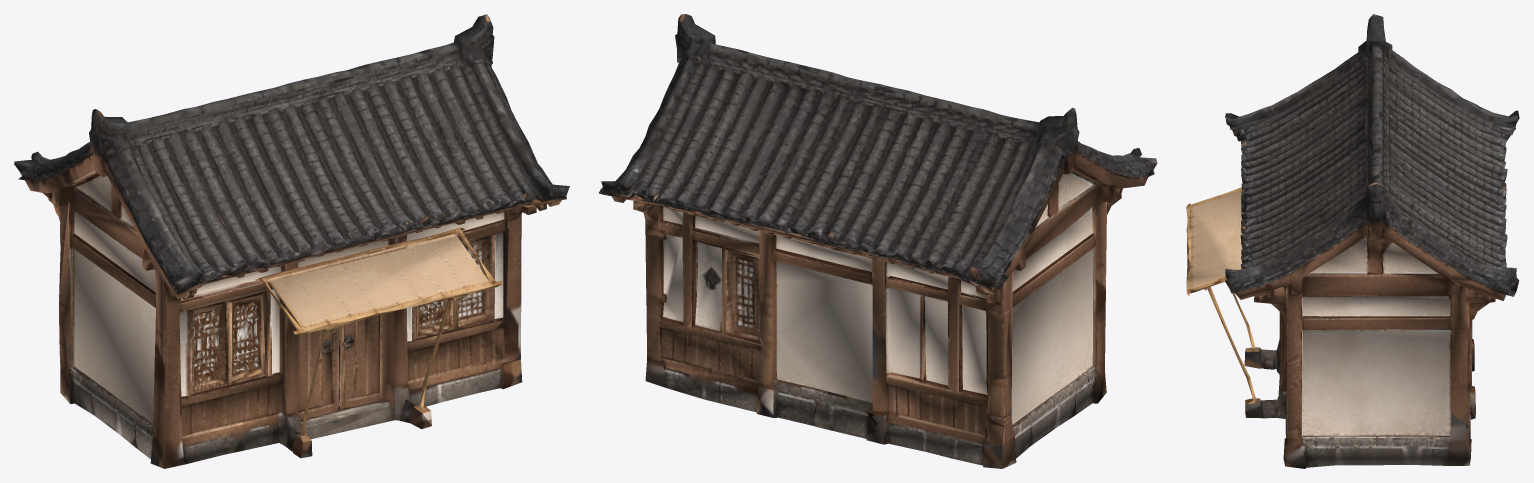
File: 01_Humble_Two_Bay_Dwelling_LOD2.fbx
3 views of the same model, side by side, from view 1: azimuth 30°, elevation 25°; view 2: azimuth 150°, elevation 25°; view 3: azimuth 270°, elevation 25° (orthographic). The views are drawn at different scales.
Parts seen in each view (by area): view 1: 01_Humble_Two_Bay_Dwelling_L2; view 2: 01_Humble_Two_Bay_Dwelling_L2; view 3: 01_Humble_Two_Bay_Dwelling_L2.
Boxes of the visible parts, x1,y1,x2,y2 form: 01_Humble_Two_Bay_Dwelling_L2: (14,14,569,468); 01_Humble_Two_Bay_Dwelling_L2: (599,14,1157,468); 01_Humble_Two_Bay_Dwelling_L2: (1186,14,1519,468).
Bounding box in the file's own units: 6.15 × 4.8 × 4.95.
